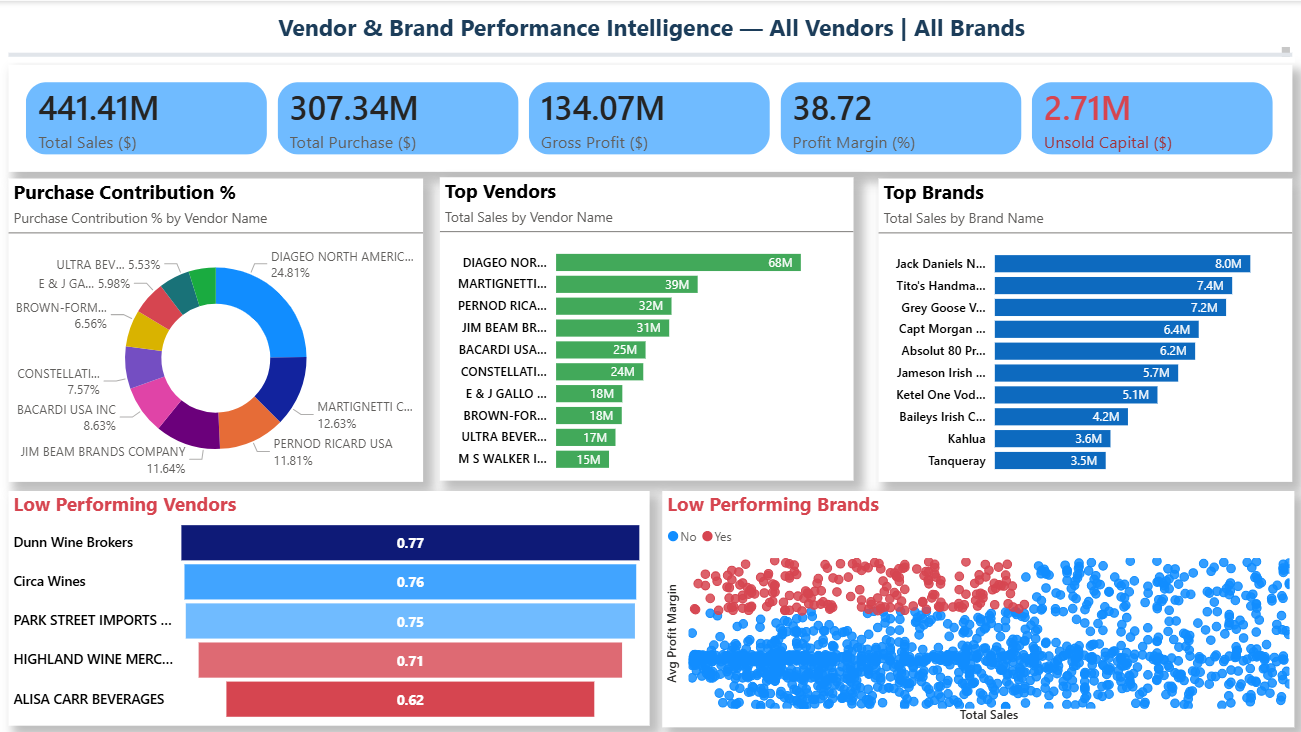

This screenshot's page, from the dashboard's own definition file:
{"tool":"powerbi","page":{"name":"Dashboard","canvas":[1280,720],"ordinal":0},"visuals":[{"type":"cardVisual","fields":{"Data":["_KPI.Total Sales","_KPI.Total Purchase","_KPI.Gross Profit","_KPI.Profit Margin","_KPI.UnsoldCapital"]},"box":[12.2,62.4,1255.8,105.2],"z":0},{"type":"donutChart","title":"Purchase Contribution %","fields":{"Category":["PurchaseContribution.VendorName"],"Y":["PurchaseContribution.PurchaseContribution%"]},"box":[12.2,173.9,406,297.1],"z":1000},{"type":"barChart","title":"Top Vendors","fields":{"Category":["vendor_sales_summary.VendorName"],"Y":["vendor_sales_summary.TotalSalesDollars"]},"box":[434.1,172.6,405,297.1],"z":2000},{"type":"barChart","title":"Top Brands","fields":{"Y":["vendor_sales_summary.TotalSalesDollars"],"Category":["vendor_sales_summary.Description"]},"box":[863.3,173.9,404.8,297.1],"z":3000},{"type":"funnel","title":"Low Performing Vendors","fields":{"Category":["LowTurnoverVendors.VendorName"],"Y":["LowTurnoverVendors.AvgStockTurnover"]},"box":[12.2,479.4,627.3,229.9],"z":4000},{"type":"scatterChart","title":"Low Performing Brands","fields":{"Category":["LowBrandPerformance.Description"],"X":["LowBrandPerformance.TotalSales"],"Y":["LowBrandPerformance.AvgProfitMargin"],"Series":["LowBrandPerformance.TargetBrand"]},"box":[651.8,479.6,618.8,231.1],"z":5000},{"type":"textbox","box":[12.2,9.8,1258.3,50],"z":6000},{"type":"shape","box":[12.2,46.5,1255.8,12.2],"z":7000}]}

Visuals, with their boxes in screenshot pixels (x1, y1, x2, y2), scaled from the page's 1280x720 canvas onto the 1301x732 screenshot:
cardVisual - _KPI.Total Sales x _KPI.Total Purchase: bbox(12, 63, 1289, 170)
"Purchase Contribution %" donutChart: bbox(12, 177, 425, 479)
"Top Vendors" barChart: bbox(441, 175, 853, 478)
"Top Brands" barChart: bbox(877, 177, 1289, 479)
"Low Performing Vendors" funnel: bbox(12, 487, 650, 721)
"Low Performing Brands" scatterChart: bbox(662, 488, 1291, 723)
textbox: bbox(12, 10, 1291, 61)
shape: bbox(12, 47, 1289, 60)
